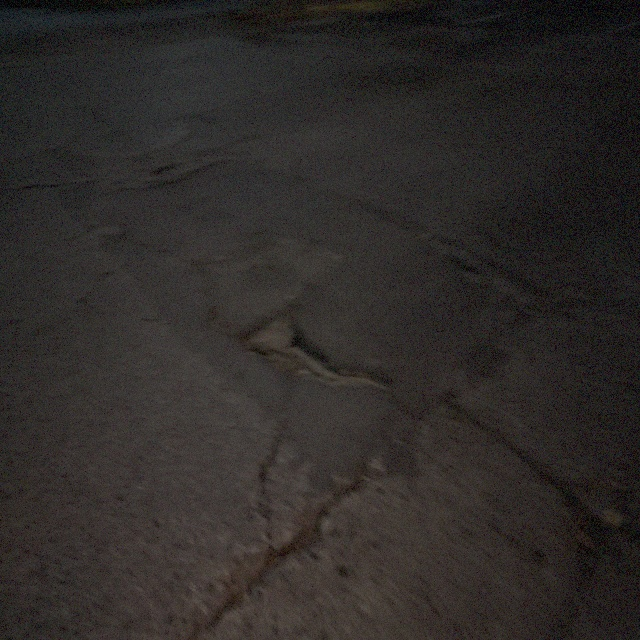pothole: (225, 306, 397, 403)
